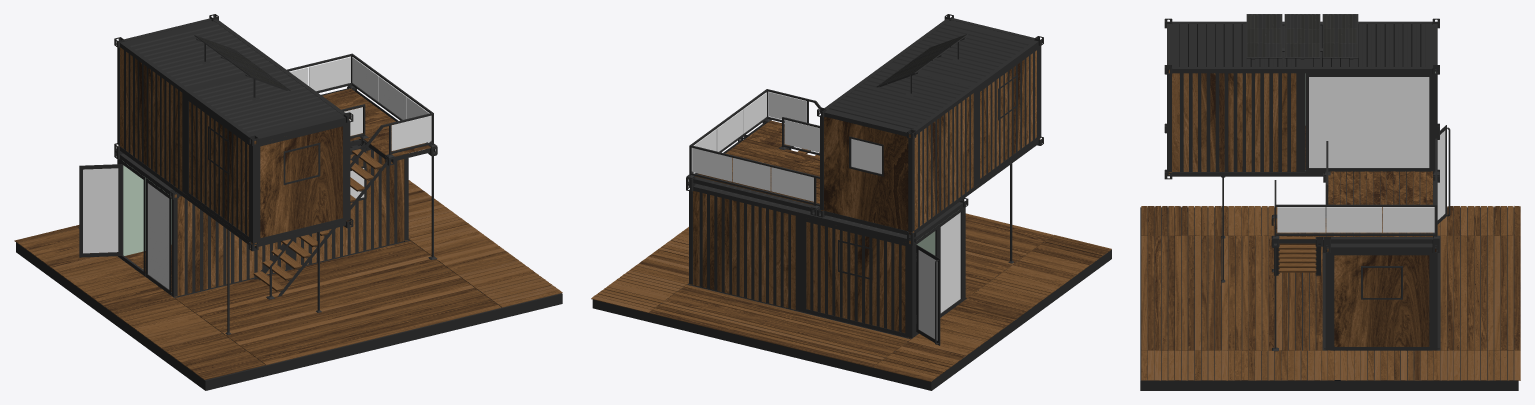
File: skyline-loft.glb
3 views of the same model, side by side, from view 1: azimuth 30°, elevation 25°; view 2: azimuth 150°, elevation 25°; view 3: azimuth 270°, elevation 25° (orthographic). The views are drawn at different scales.
Visible parts, largest first — view 1: base, model_3_container_2_exterior_sealing_metal, model_3_container_2_wall_6_none_finish_wood, model_3_container_2_edges_metal, model_3_container_2_wall_2_none_finish_wood, model_3_fense_glass, model_3_container_2_wall_1_none_finish_wood, model_3_container_1_wall_2_none_finish_wood, model_3_container_1_wall_1_window_finish_wood, model_3_container_2_wall_2_none_exterior_metal, model_3_container_1_wall_3_door_left_glass, model_3_container_2_wall_1_none_exterior_metal (+17 smaller); view 2: base, model_3_container_2_exterior_sealing_metal, model_3_container_1_wall_5_none_finish_wood, model_3_container_2_wall_3_window_finish_wood, model_3_fense_glass, model_3_container_1_wall_4_none_finish_wood, model_3_container_2_edges_metal, model_3_container_1_wall_5_none_exterior_metal, model_3_container_2_wall_2_none_finish_wood, model_3_container_1_wall_4_none_exterior_metal, model_3_container_2_wall_1_none_finish_wood, model_3_container_1_edges_metal (+18 smaller); view 3: base, model_3_container_2_wall_4_balcony_glass, model_3_container_1_wall_6_none_finish_wood, model_3_container_2_wall_5_none_finish_wood, model_3_container_2_exterior_sealing_metal, model_3_container_2_wall_5_none_exterior_metal, model_3_container_2_edges_metal, model_3_solar_panel_1_solar_semic, model_3_fense_wood_2, model_3_fense_glass, model_3_container_1_edges_metal, model_3_container_2_wall_4_balcony_frame_metal (+10 smaller).
Boxes of the visible parts, x1=… form: base: x1=14, y1=180, x2=562, y2=390; model_3_container_2_exterior_sealing_metal: x1=124, y1=20, x2=343, y2=140; model_3_container_2_wall_6_none_finish_wood: x1=254, y1=126, x2=348, y2=246; model_3_container_2_edges_metal: x1=114, y1=14, x2=353, y2=251; model_3_container_2_wall_2_none_finish_wood: x1=118, y1=47, x2=182, y2=191; model_3_fense_glass: x1=290, y1=57, x2=431, y2=150; model_3_container_2_wall_1_none_finish_wood: x1=189, y1=101, x2=252, y2=244; model_3_container_1_wall_2_none_finish_wood: x1=174, y1=194, x2=285, y2=297; model_3_container_1_wall_1_window_finish_wood: x1=296, y1=150, x2=407, y2=264; model_3_container_2_wall_2_none_exterior_metal: x1=124, y1=50, x2=183, y2=192; model_3_container_1_wall_3_door_left_glass: x1=83, y1=168, x2=118, y2=253; model_3_container_2_wall_1_none_exterior_metal: x1=191, y1=103, x2=253, y2=244; base: x1=591, y1=213, x2=1111, y2=390; model_3_container_2_exterior_sealing_metal: x1=826, y1=20, x2=1034, y2=133; model_3_container_1_wall_5_none_finish_wood: x1=690, y1=191, x2=795, y2=309; model_3_container_2_wall_3_window_finish_wood: x1=821, y1=116, x2=911, y2=234; model_3_fense_glass: x1=691, y1=92, x2=819, y2=201; model_3_container_1_wall_4_none_finish_wood: x1=806, y1=222, x2=911, y2=338; model_3_container_2_edges_metal: x1=817, y1=14, x2=1043, y2=239; model_3_container_1_wall_5_none_exterior_metal: x1=699, y1=192, x2=798, y2=310; model_3_container_2_wall_2_none_finish_wood: x1=912, y1=93, x2=973, y2=232; model_3_container_1_wall_4_none_exterior_metal: x1=810, y1=223, x2=910, y2=332; model_3_container_2_wall_1_none_finish_wood: x1=980, y1=50, x2=1040, y2=178; model_3_container_1_edges_metal: x1=686, y1=178, x2=968, y2=339; base: x1=1140, y1=206, x2=1520, y2=390; model_3_container_2_wall_4_balcony_glass: x1=1309, y1=77, x2=1429, y2=167; model_3_container_1_wall_6_none_finish_wood: x1=1327, y1=248, x2=1436, y2=350; model_3_container_2_wall_5_none_finish_wood: x1=1168, y1=70, x2=1296, y2=174; model_3_container_2_exterior_sealing_metal: x1=1168, y1=24, x2=1436, y2=171; model_3_container_2_wall_5_none_exterior_metal: x1=1169, y1=69, x2=1299, y2=171; model_3_container_2_edges_metal: x1=1164, y1=18, x2=1439, y2=179; model_3_solar_panel_1_solar_semic: x1=1247, y1=14, x2=1357, y2=57; model_3_fense_wood_2: x1=1273, y1=171, x2=1432, y2=236; model_3_fense_glass: x1=1277, y1=207, x2=1434, y2=232; model_3_container_1_edges_metal: x1=1323, y1=133, x2=1439, y2=351; model_3_container_2_wall_4_balcony_frame_metal: x1=1305, y1=73, x2=1432, y2=172.
Bounding box in the file's own units: 9.21 × 6.2 × 8.51.
Materials: 8 (4 with a texture image).
